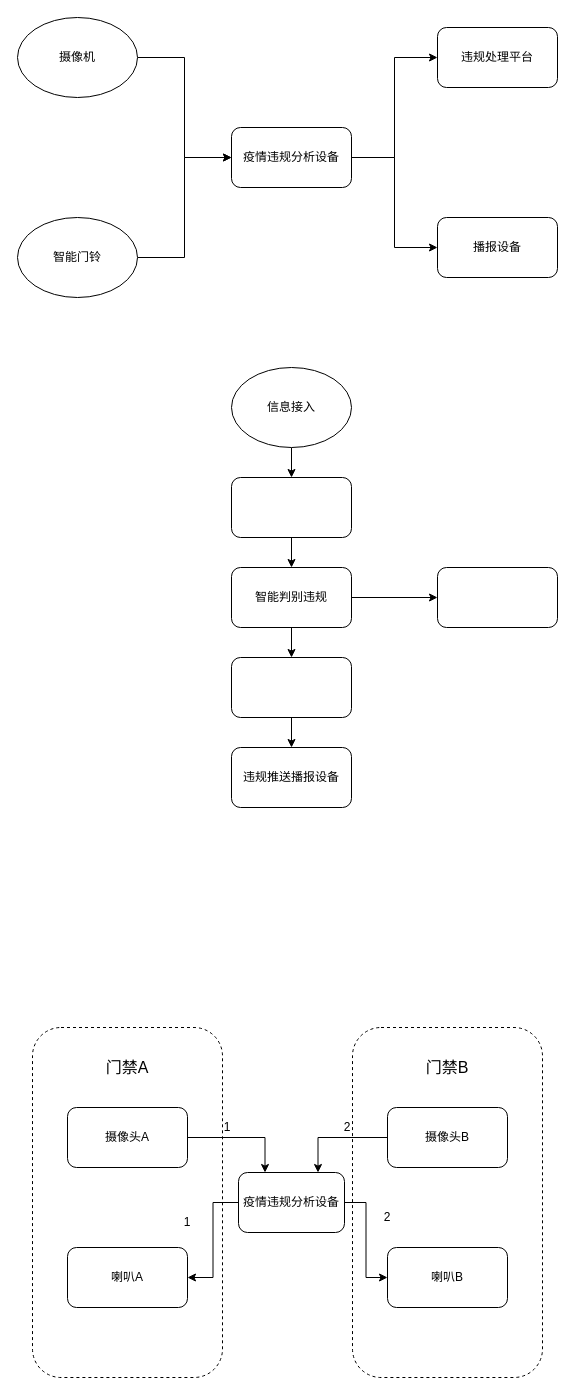
The diagram is 575 pixels wide and 1395 high, and some of its shapes have lost their labels. Each missing label, with the centre of its shape:
接入设备数据转化: the point at 291,507
输入播报设备匹配: the point at 291,687
违规推送违规处理平台: the point at 497,597
